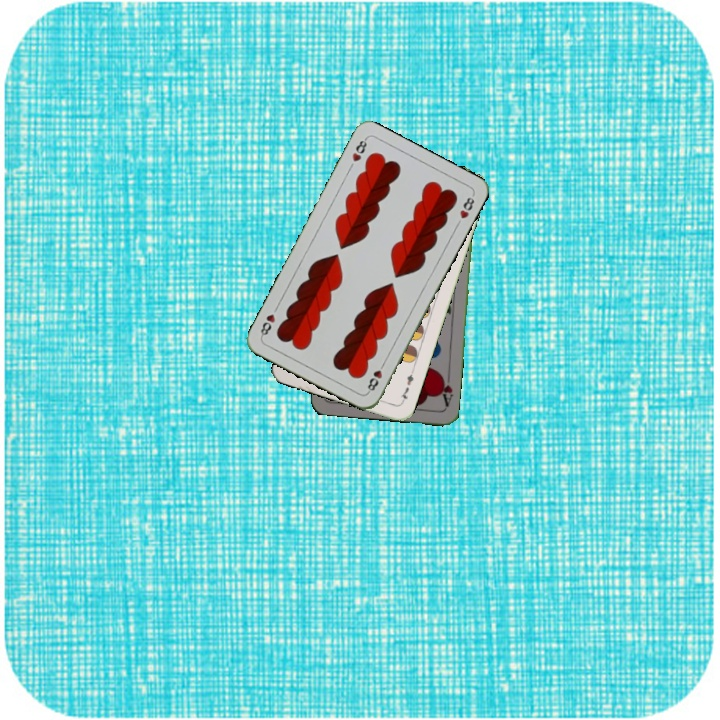E7: (397, 367, 416, 406)
H8: (363, 357, 388, 395), (348, 134, 370, 164)
HA: (436, 369, 456, 409)
